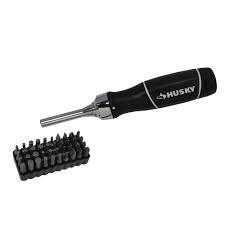screwdriver: (38, 65, 216, 126)
